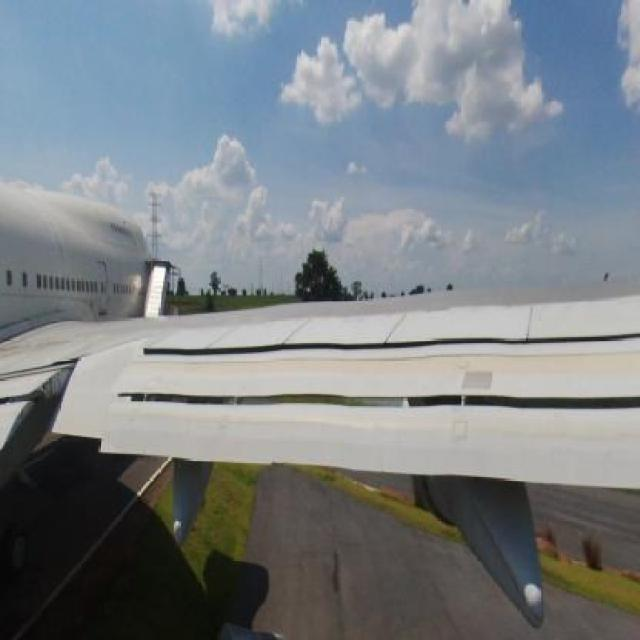Scartch: (1, 342, 76, 364)
